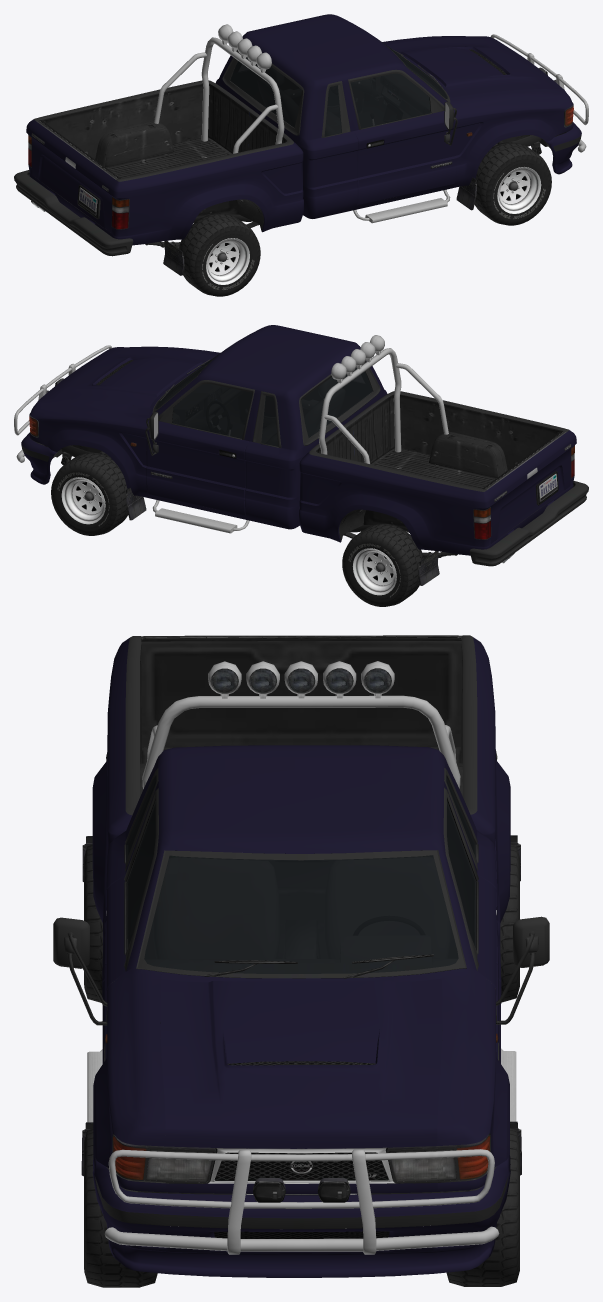
Rendered from m_car-lifted-pickup.glb.
The picture shows the model from 3 angles, top to bottom: view 1: azimuth 30°, elevation 25°; view 2: azimuth 150°, elevation 25°; view 3: azimuth 270°, elevation 25°; orthographic projection. The views are drawn at different scales.
Parts seen in each view (by area): view 1: krmlgtbdy85_Body_krmlgtbdy85_Bodymat_0, krmlgtbdy85_Bumper_Rear_UCB_BOTTOM_0, krmlgtbdy85_WheelStock_FL_RO1a_Tire_0, krmlgtbdy85_Headlights_Glass_UCB_Lights_and_Glass_Transperen, krmlgtbdy85_Interior_UCB_Interiors_1_0, krmlgtbdy85_Headlights_UCB_Lights_and_Glass_0; view 2: krmlgtbdy85_Body_krmlgtbdy85_Bodymat_0, krmlgtbdy85_Bumper_Rear_UCB_BOTTOM_0, krmlgtbdy85_WheelStock_FL_RO1a_Tire_0, krmlgtbdy85_Headlights_Glass_UCB_Lights_and_Glass_Transperen, krmlgtbdy85_Interior_UCB_Interiors_1_0, krmlgtbdy85_Headlights_UCB_Lights_and_Glass_0; view 3: krmlgtbdy85_Body_krmlgtbdy85_Bodymat_0, krmlgtbdy85_Bumper_Rear_UCB_BOTTOM_0, krmlgtbdy85_Headlights_Glass_UCB_Lights_and_Glass_Transperen, krmlgtbdy85_Interior_UCB_Interiors_1_0, krmlgtbdy85_WheelStock_FL_RO1a_Tire_0, krmlgtbdy85_Headlights_UCB_Lights_and_Glass_0.
Part boxes in pixels (bbox=[...]): krmlgtbdy85_Body_krmlgtbdy85_Bodymat_0: bbox=[26, 14, 581, 245]; krmlgtbdy85_Bumper_Rear_UCB_BOTTOM_0: bbox=[14, 24, 588, 275]; krmlgtbdy85_WheelStock_FL_RO1a_Tire_0: bbox=[179, 142, 551, 296]; krmlgtbdy85_Headlights_Glass_UCB_Lights_and_Glass_Transperen: bbox=[28, 41, 573, 229]; krmlgtbdy85_Interior_UCB_Interiors_1_0: bbox=[231, 57, 446, 135]; krmlgtbdy85_Headlights_UCB_Lights_and_Glass_0: bbox=[29, 108, 571, 228]; krmlgtbdy85_Body_krmlgtbdy85_Bodymat_0: bbox=[21, 325, 576, 555]; krmlgtbdy85_Bumper_Rear_UCB_BOTTOM_0: bbox=[14, 335, 588, 585]; krmlgtbdy85_WheelStock_FL_RO1a_Tire_0: bbox=[51, 452, 423, 606]; krmlgtbdy85_Headlights_Glass_UCB_Lights_and_Glass_Transperen: bbox=[29, 353, 574, 539]; krmlgtbdy85_Interior_UCB_Interiors_1_0: bbox=[157, 368, 371, 446]; krmlgtbdy85_Headlights_UCB_Lights_and_Glass_0: bbox=[31, 419, 574, 538]; krmlgtbdy85_Body_krmlgtbdy85_Bodymat_0: bbox=[92, 637, 510, 1277]; krmlgtbdy85_Bumper_Rear_UCB_BOTTOM_0: bbox=[53, 635, 549, 1254]; krmlgtbdy85_Headlights_Glass_UCB_Lights_and_Glass_Transperen: bbox=[113, 775, 490, 1182]; krmlgtbdy85_Interior_UCB_Interiors_1_0: bbox=[129, 782, 473, 973]; krmlgtbdy85_WheelStock_FL_RO1a_Tire_0: bbox=[84, 844, 519, 1287]; krmlgtbdy85_Headlights_UCB_Lights_and_Glass_0: bbox=[113, 1136, 489, 1182].
Bounding box in the file's own units: 4.93 × 1.92 × 2.14.
8 materials, 7 textured.
